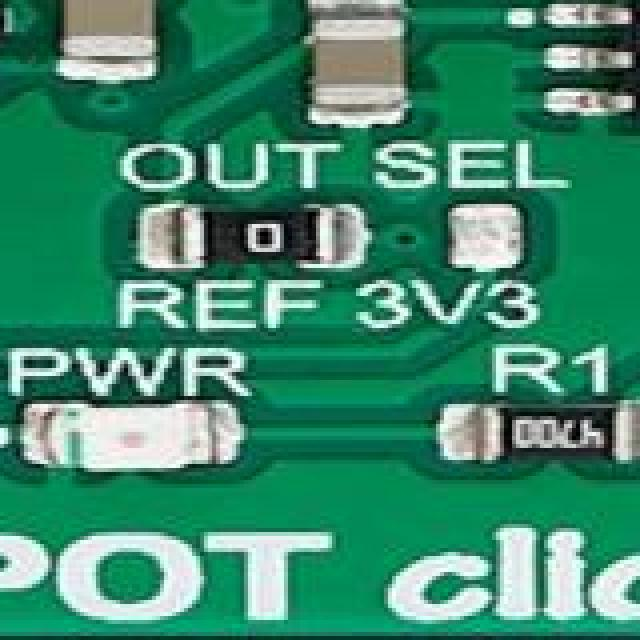IC: (584, 4, 640, 128), (0, 0, 8, 84)
LED: (68, 404, 222, 476)
capacitor: (300, 4, 416, 102), (60, 0, 156, 64)
resistor: (184, 208, 384, 272), (480, 404, 640, 468)
